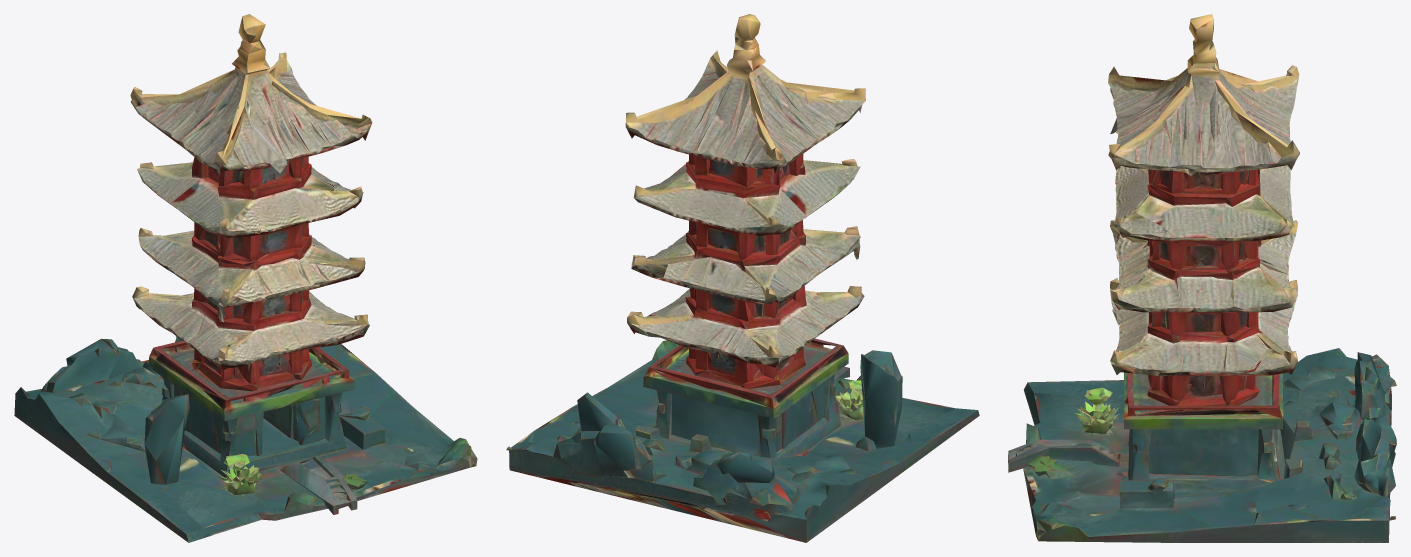
File: pagoda.glb
The picture shows the model from 3 angles, left to right: view 1: azimuth 30°, elevation 25°; view 2: azimuth 150°, elevation 25°; view 3: azimuth 270°, elevation 25°; orthographic projection. The views are drawn at different scales.
Size of the model in its own units: 1.38 by 1.88 by 1.48.
1 material, 1 textured.
